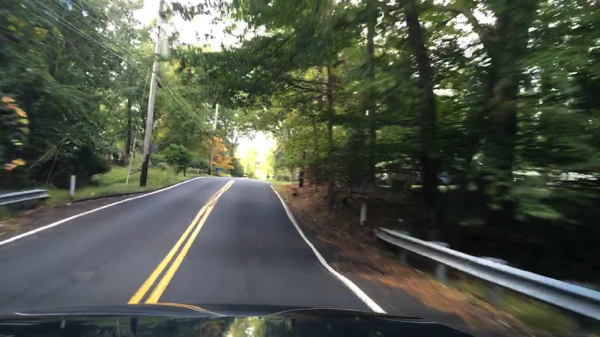car: (379, 166, 419, 184), (512, 166, 548, 182), (558, 169, 583, 181), (439, 170, 453, 186), (242, 171, 249, 177)
